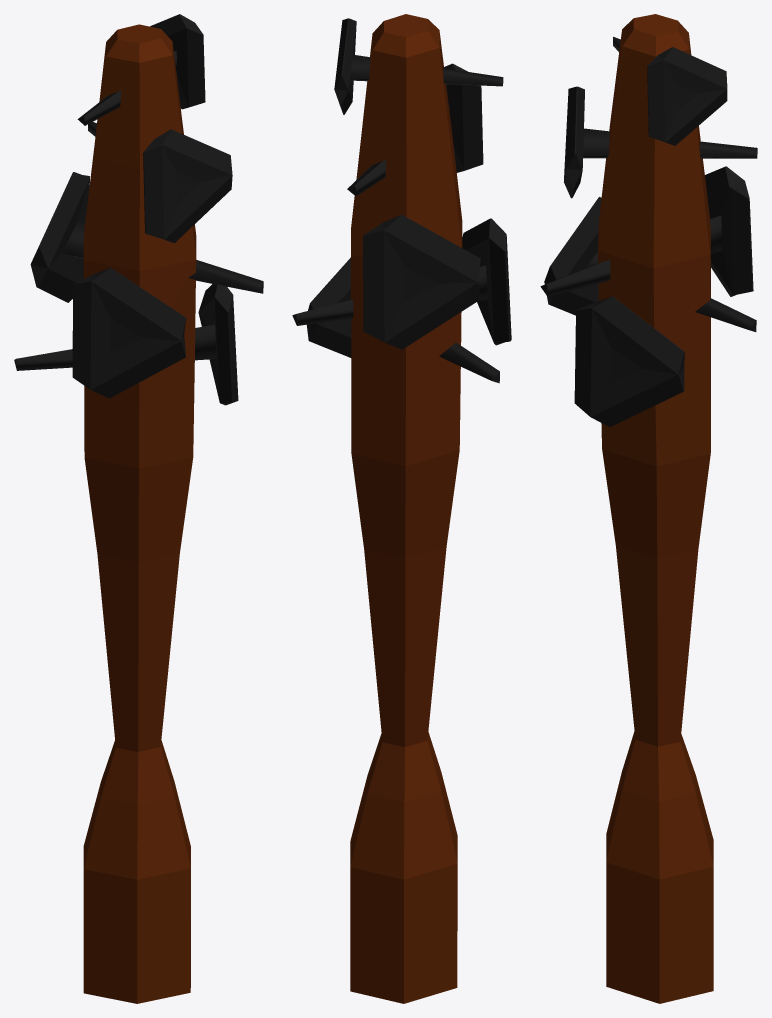
The model's file is dubinka.FBX.
3 views of the same model, side by side, from view 1: azimuth 30°, elevation 25°; view 2: azimuth 150°, elevation 25°; view 3: azimuth 270°, elevation 25° (orthographic).
Parts seen in each view (by area): view 1: Cylinder032; view 2: Cylinder032; view 3: Cylinder032.
Boxes of the visible parts, left/top/right/bottom form: Cylinder032: left=14, top=14, right=263, bottom=1003; Cylinder032: left=292, top=14, right=511, bottom=1003; Cylinder032: left=540, top=14, right=757, bottom=1003.
Size of the model in its own units: 3.76 by 17.35 by 3.58.
